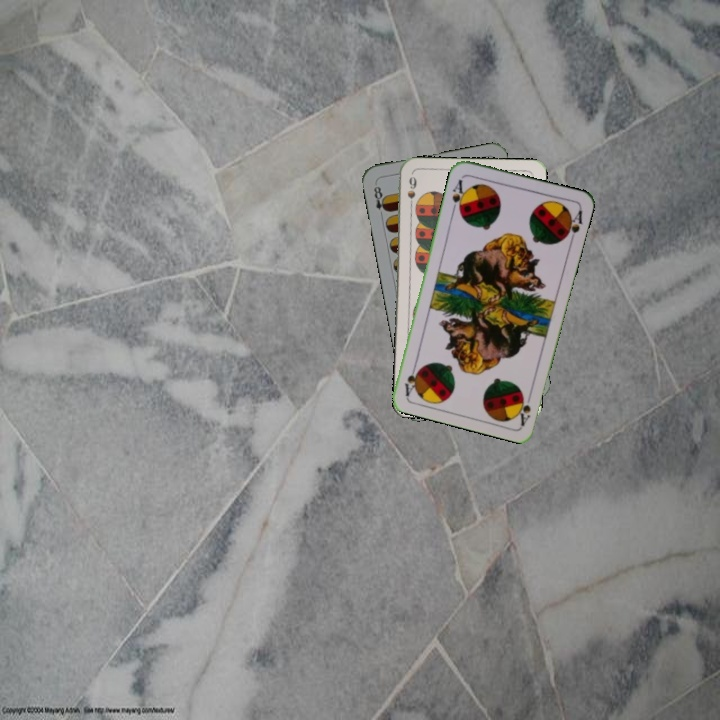E8: (370, 179, 390, 220)
S9: (404, 172, 419, 212)
SA: (513, 387, 535, 428), (448, 175, 469, 215)
